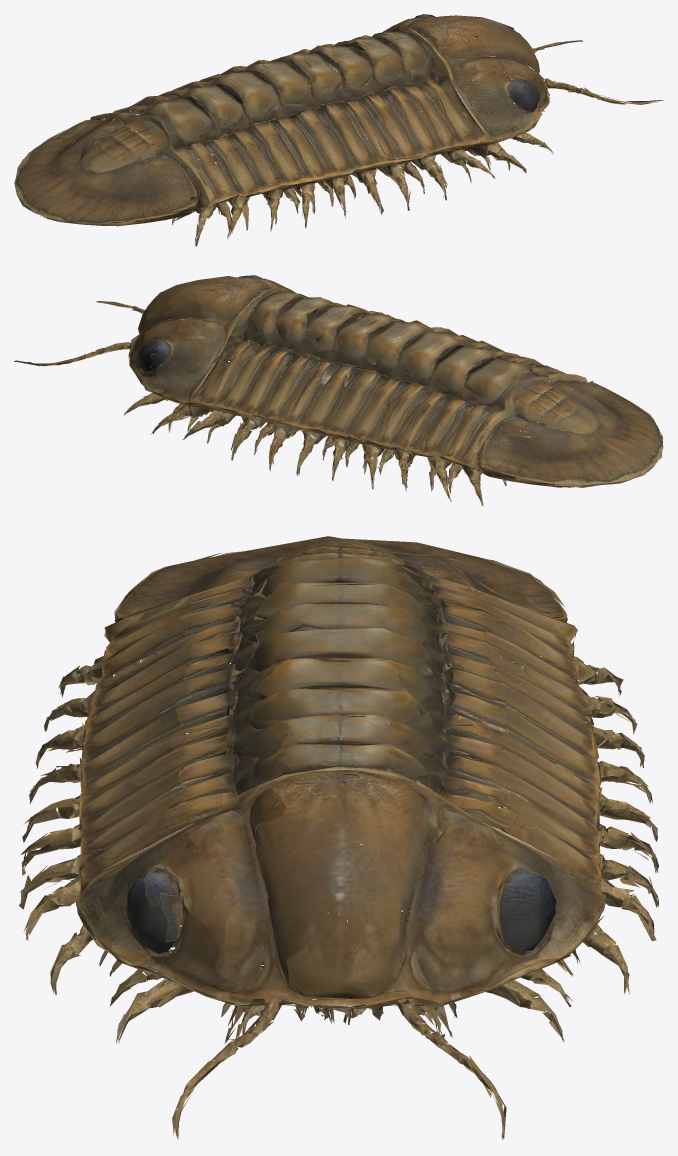
File: trilobite.glb
3 renders of one model, top to bottom at view 1: azimuth 30°, elevation 25°; view 2: azimuth 150°, elevation 25°; view 3: azimuth 270°, elevation 25°, orthographic. The views are drawn at different scales.
Parts seen in each view (by area): view 1: Mesh_0; view 2: Mesh_0; view 3: Mesh_0.
Boxes of the visible parts, x1,y1,x2,y2 form: Mesh_0: [14, 14, 663, 246]; Mesh_0: [14, 275, 663, 506]; Mesh_0: [19, 536, 658, 1140].
Size of the model in its own units: 1 by 0.1759 by 0.4664.
1 material, 1 textured.
